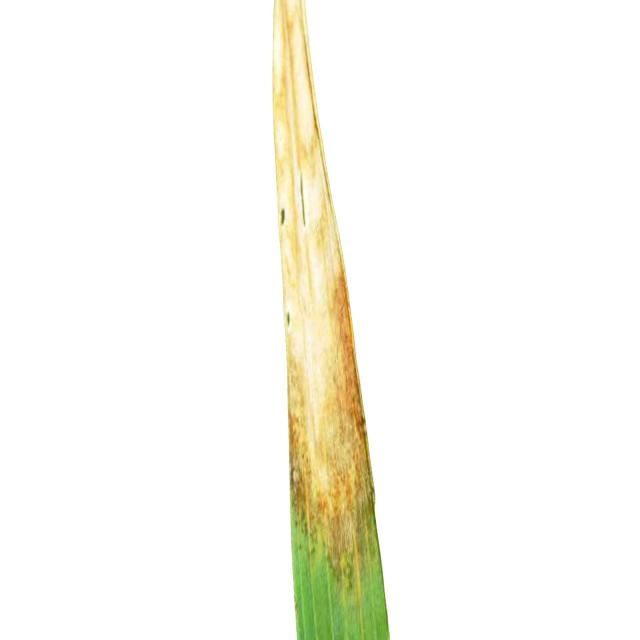Leaf scald: (182, 0, 448, 640)
